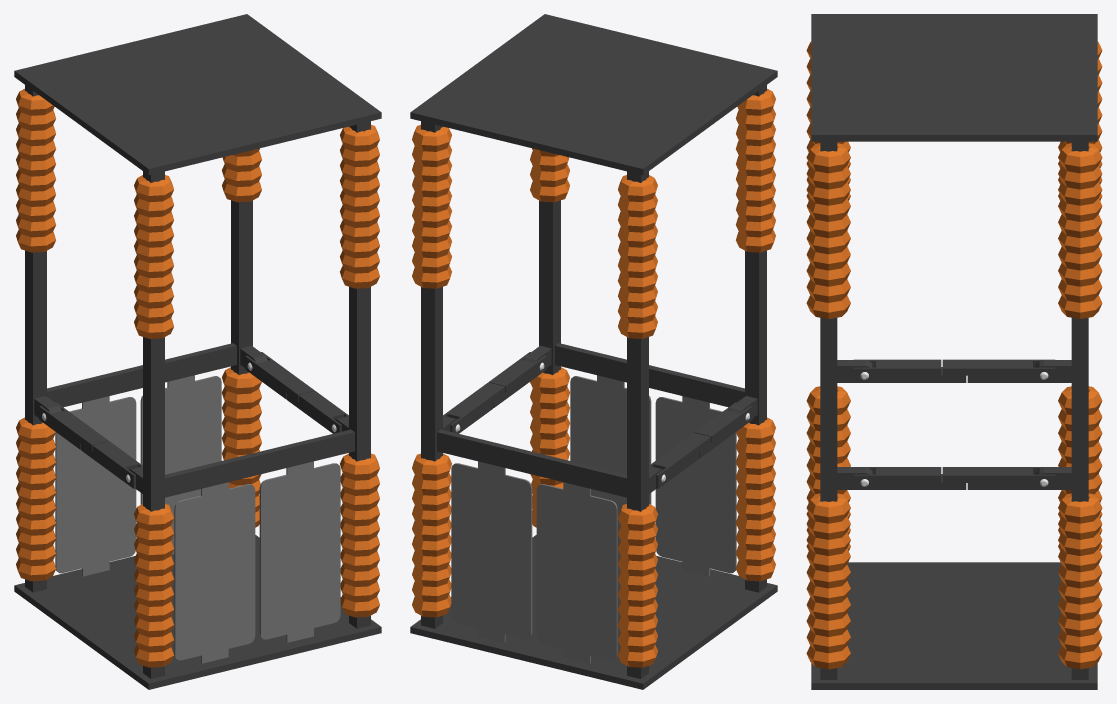
File: chamber.glb
The picture shows the model from 3 angles, left to right: view 1: azimuth 30°, elevation 25°; view 2: azimuth 150°, elevation 25°; view 3: azimuth 270°, elevation 25°; orthographic projection. The views are drawn at different scales.
Parts seen in each view (by area): view 1: Plane, Plane.001, Plane.003, Plane.002, Plane.004, Plane.005; view 2: Plane, Plane.001, Plane.002, Plane.003, Plane.004, Plane.005; view 3: Plane, Plane.001, Plane.002, Plane.003, Plane.004, Plane.005.
Part boxes in pixels (left/top/right/bottom): Plane: left=14, top=14, right=381, bottom=689; Plane.001: left=16, top=88, right=379, bottom=667; Plane.003: left=245, top=352, right=314, bottom=401; Plane.002: left=39, top=402, right=108, bottom=451; Plane.004: left=81, top=441, right=142, bottom=488; Plane.005: left=287, top=391, right=348, bottom=433; Plane: left=410, top=14, right=777, bottom=689; Plane.001: left=412, top=88, right=775, bottom=667; Plane.002: left=649, top=432, right=710, bottom=488; Plane.003: left=443, top=382, right=504, bottom=433; Plane.004: left=694, top=402, right=752, bottom=458; Plane.005: left=488, top=352, right=546, bottom=407; Plane: left=811, top=14, right=1097, bottom=689; Plane.001: left=806, top=41, right=1102, bottom=669; Plane.002: left=942, top=359, right=1055, bottom=382; Plane.003: left=942, top=467, right=1055, bottom=489; Plane.004: left=853, top=359, right=966, bottom=382; Plane.005: left=853, top=467, right=966, bottom=489.
Bounding box in the file's own units: 1.04 × 2.14 × 1.03.
2 materials, 1 textured.
